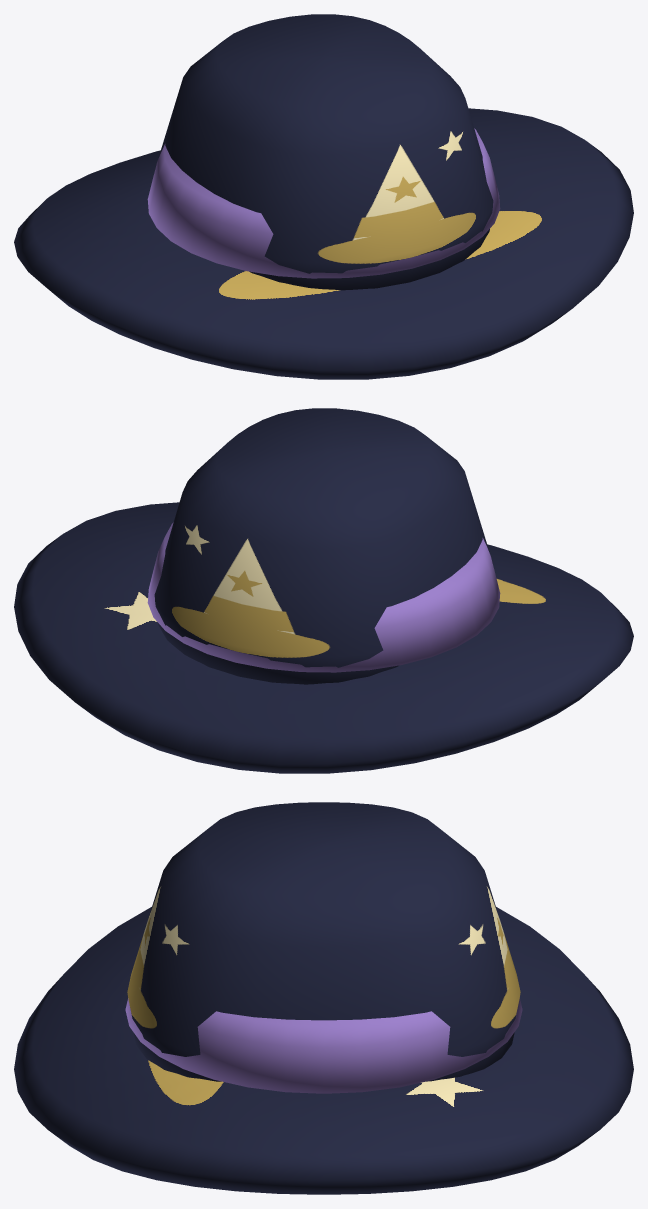
Rendered from ACC_TH_FARM_Primary.fbx.
3 renders of one model, top to bottom at view 1: azimuth 30°, elevation 25°; view 2: azimuth 150°, elevation 25°; view 3: azimuth 270°, elevation 25°, orthographic. The views are drawn at different scales.
Parts seen in each view (by area): view 1: ACC_TH_FARM_Primary; view 2: ACC_TH_FARM_Primary; view 3: ACC_TH_FARM_Primary.
Part boxes in pixels (left/top/right/bottom): ACC_TH_FARM_Primary: left=14, top=14, right=633, bottom=379; ACC_TH_FARM_Primary: left=14, top=408, right=633, bottom=773; ACC_TH_FARM_Primary: left=14, top=802, right=633, bottom=1194.
Bounding box in the file's own units: 110 × 41.67 × 94.6.
